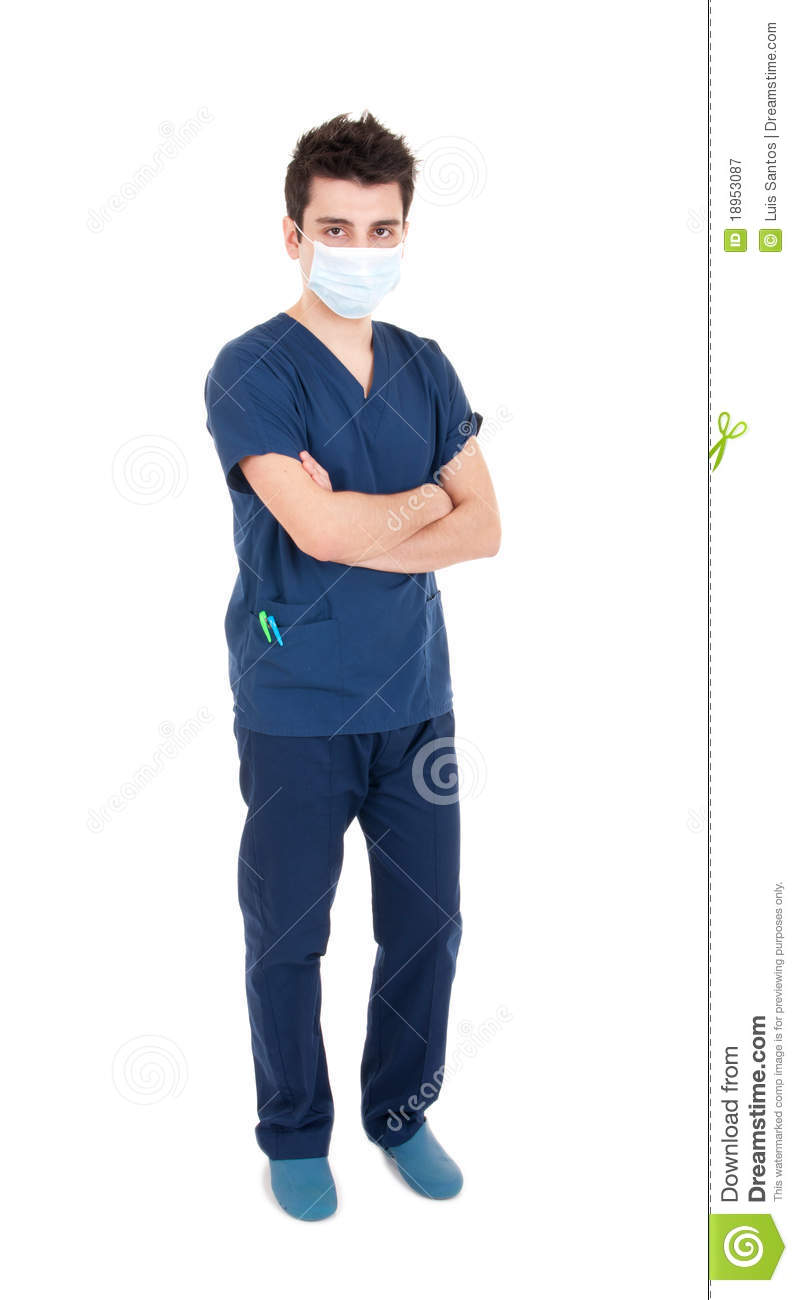mask: (311, 235, 403, 323)
